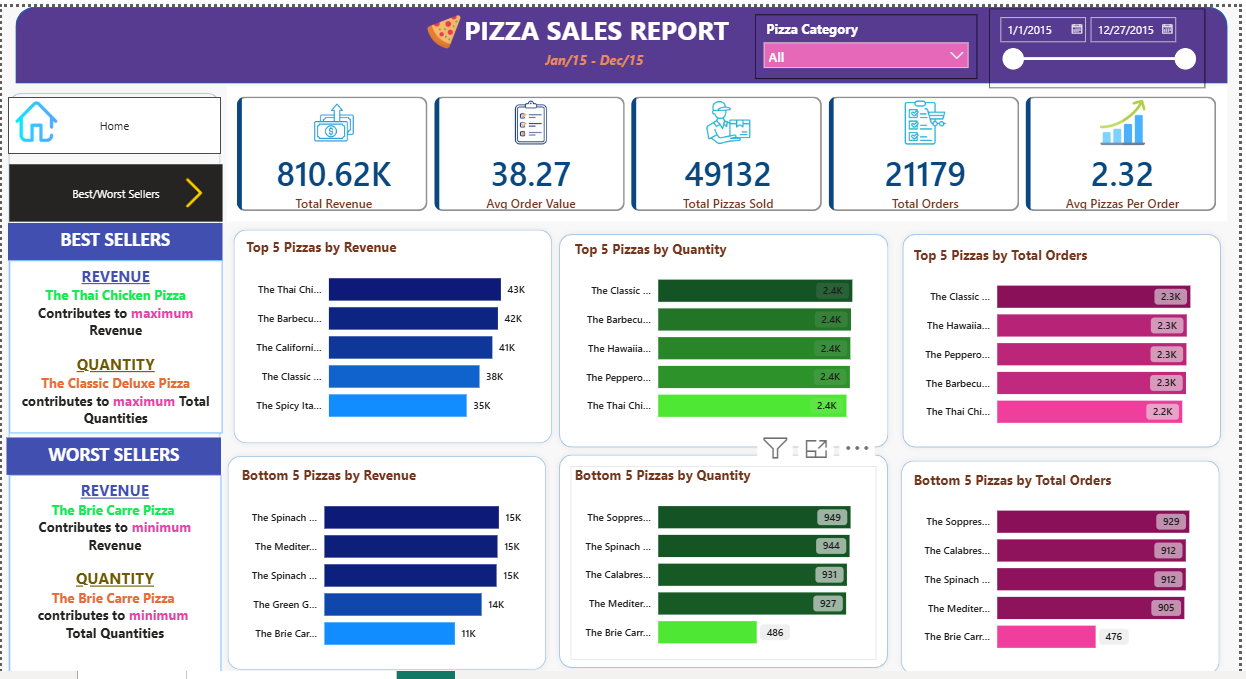

The dashboard page shown, as its layout file describes it:
{"tool":"powerbi","page":{"name":"Best/Worst Sellers","canvas":[1500,830],"ordinal":1},"visuals":[{"type":"shape","box":[0,96.4,272.7,734.5],"z":0},{"type":"cardVisual","fields":{"Data":["pizza_sales.Total Revenue","pizza_sales.Avg Order Value","pizza_sales.Total Pizzas Sold","pizza_sales.Total Orders","pizza_sales.Avg Pizzas Per Order"]},"box":[272.7,96.4,1212.7,163.6],"z":1000},{"type":"shape","box":[16.4,0,1469.1,92.7],"z":2000},{"type":"textbox","box":[512.7,0,416.4,56.4],"z":3000},{"type":"textbox","box":[652.7,47.3,136.4,49.1],"z":4000},{"type":"image","box":[500,9.1,70.9,41.8],"z":5000},{"type":"shape","box":[272.7,261.8,402,275],"z":6000},{"type":"textbox","box":[7.3,261.8,260,45.5],"z":7000},{"type":"textbox","box":[9.1,307.3,258.2,209.1],"z":8000},{"type":"textbox","box":[5.5,521.8,260,45.5],"z":9000},{"type":"textbox","box":[9.1,567.3,256.4,249.1],"z":10000},{"type":"slicer","fields":{"Values":["pizza_sales.pizza_category"]},"box":[912.7,9.1,269.1,78.2],"z":11000},{"type":"slicer","fields":{"Values":["pizza_sales.order_date"]},"box":[1196.4,1.8,261.8,96.4],"z":12000},{"type":"shape","box":[1083.6,267.3,401.8,274.5],"z":13000},{"type":"shape","box":[667.3,267.3,415,274.5],"z":14000},{"type":"shape","box":[265.5,536.4,402,275],"z":15000},{"type":"shape","box":[667.3,534.5,414.5,274.5],"z":16000},{"type":"shape","box":[1081.8,541.8,402,275],"z":17000},{"type":"barChart","title":"Top 5 Pizzas by Revenue","fields":{"Category":["pizza_sales.pizza_name"],"Y":["pizza_sales.Total Revenue"]},"box":[290.9,280,367.3,236.4],"z":18000},{"type":"barChart","title":"Bottom 5 Pizzas by Revenue","fields":{"Category":["pizza_sales.pizza_name"],"Y":["pizza_sales.Total Revenue"]},"box":[285.5,556.4,367.3,236.4],"z":19000},{"type":"barChart","title":"Top 5 Pizzas by Quantity","fields":{"Category":["pizza_sales.pizza_name"],"Y":["pizza_sales.Total Pizzas Sold"]},"box":[689.1,281.8,370.9,234.5],"z":20000},{"type":"barChart","title":"Bottom 5 Pizzas by Quantity","fields":{"Category":["pizza_sales.pizza_name"],"Y":["pizza_sales.Total Pizzas Sold"]},"box":[689.1,556.4,370.9,234.5],"z":21000},{"type":"barChart","title":"Top 5 Pizzas by Total Orders","fields":{"Category":["pizza_sales.pizza_name"],"Y":["pizza_sales.Total Orders"]},"box":[1100,289.1,370.9,234.5],"z":22000},{"type":"barChart","title":"Bottom 5 Pizzas by Total Orders","fields":{"Category":["pizza_sales.pizza_name"],"Y":["pizza_sales.Total Orders"]},"box":[1100,561.8,370.9,234.5],"z":23000},{"type":"pageNavigator","box":[7.3,109.1,258.2,69.1],"z":23001},{"type":"pageNavigator","box":[9.1,190.9,258.2,69.1],"z":23002},{"type":"image","box":[214.5,203.6,36.4,43.6],"z":23003},{"type":"image","box":[16.4,100,50.9,78.2],"z":23004}]}

Visuals, with their boxes in screenshot pixels (x1, y1, x2, y2), scaled from the page's 1500x830 canvas onto the 1246x679 screenshot:
shape: <box>0,79,227,678</box>
cardVisual - pizza_sales.Total Revenue x pizza_sales.Avg Order Value: <box>227,79,1234,213</box>
shape: <box>14,0,1234,76</box>
textbox: <box>426,0,772,46</box>
textbox: <box>542,39,655,79</box>
image: <box>415,7,474,42</box>
shape: <box>227,214,560,439</box>
textbox: <box>6,214,222,251</box>
textbox: <box>8,251,222,422</box>
textbox: <box>5,427,221,464</box>
textbox: <box>8,464,221,668</box>
slicer - pizza_sales.pizza_category: <box>758,7,982,71</box>
slicer - pizza_sales.order_date: <box>994,1,1211,80</box>
shape: <box>900,219,1234,443</box>
shape: <box>554,219,899,443</box>
shape: <box>221,439,554,664</box>
shape: <box>554,437,899,662</box>
shape: <box>899,443,1233,668</box>
"Top 5 Pizzas by Revenue" barChart: <box>242,229,547,422</box>
"Bottom 5 Pizzas by Revenue" barChart: <box>237,455,542,649</box>
"Top 5 Pizzas by Quantity" barChart: <box>572,231,881,422</box>
"Bottom 5 Pizzas by Quantity" barChart: <box>572,455,881,647</box>
"Top 5 Pizzas by Total Orders" barChart: <box>914,237,1222,428</box>
"Bottom 5 Pizzas by Total Orders" barChart: <box>914,460,1222,651</box>
pageNavigator: <box>6,89,221,146</box>
pageNavigator: <box>8,156,222,213</box>
image: <box>178,167,208,202</box>
image: <box>14,82,56,146</box>
